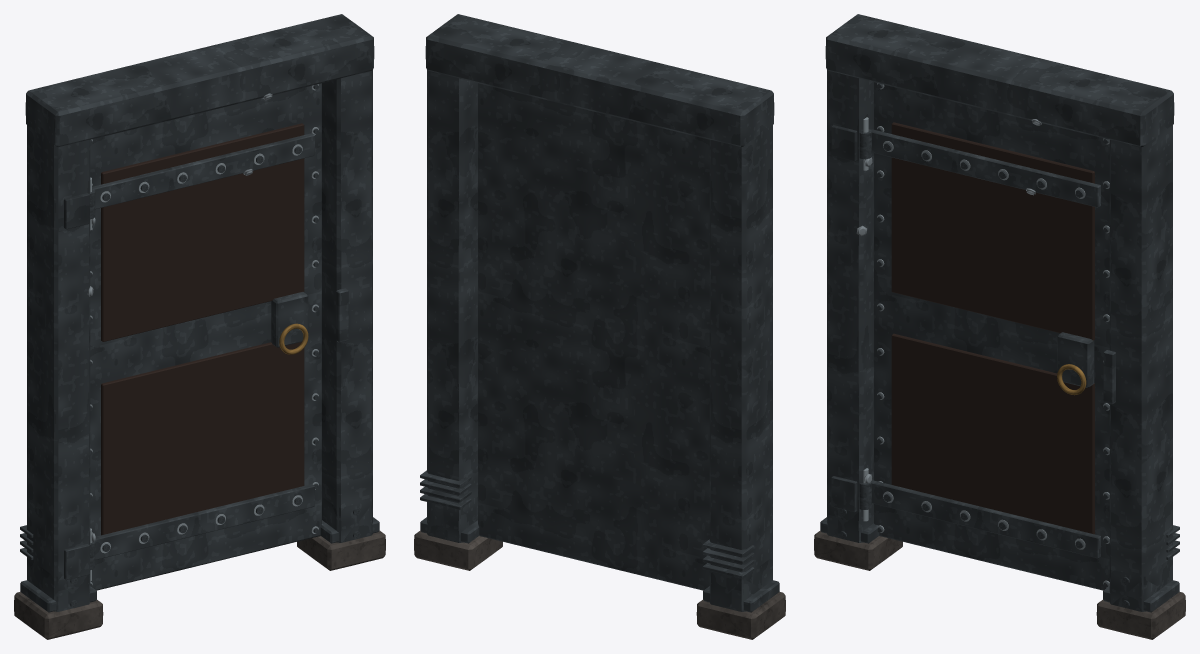
3 renders of one model, left to right at view 1: azimuth 30°, elevation 25°; view 2: azimuth 150°, elevation 25°; view 3: azimuth 330°, elevation 25°, orthographic.
Parts seen in each view (by area): view 1: gunmetal-cast-iron (×2), mortar-joint-recess, foundry-slag-brick, machined-bearing-steel; view 2: gunmetal-cast-iron (×2), foundry-slag-brick; view 3: gunmetal-cast-iron (×2), mortar-joint-recess, foundry-slag-brick, machined-bearing-steel.
Boxes of the visible parts, <box> form: gunmetal-cast-iron (×2): <box>20,14,379,612</box>; mortar-joint-recess: <box>101,123,304,535</box>; foundry-slag-brick: <box>14,530,385,639</box>; machined-bearing-steel: <box>90,84,318,584</box>; gunmetal-cast-iron (×2): <box>420,14,779,612</box>; foundry-slag-brick: <box>414,530,785,639</box>; gunmetal-cast-iron (×2): <box>820,14,1179,612</box>; mortar-joint-recess: <box>891,122,1094,534</box>; foundry-slag-brick: <box>814,530,1185,639</box>; machined-bearing-steel: <box>877,83,1109,587</box>.
Bounding box in the file's own units: 1.69 × 2.48 × 0.315.
Materials: 6 (4 with a texture image).
